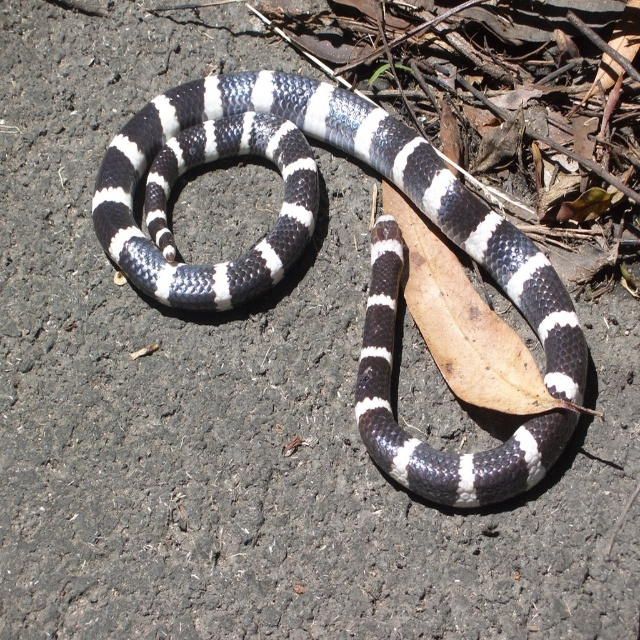Snake: (92, 71, 588, 507)
